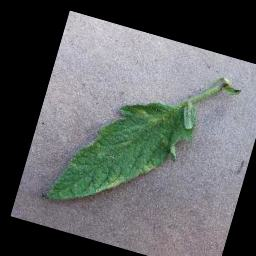Leaf_Mold: (94, 168, 129, 201), (139, 159, 158, 178)
